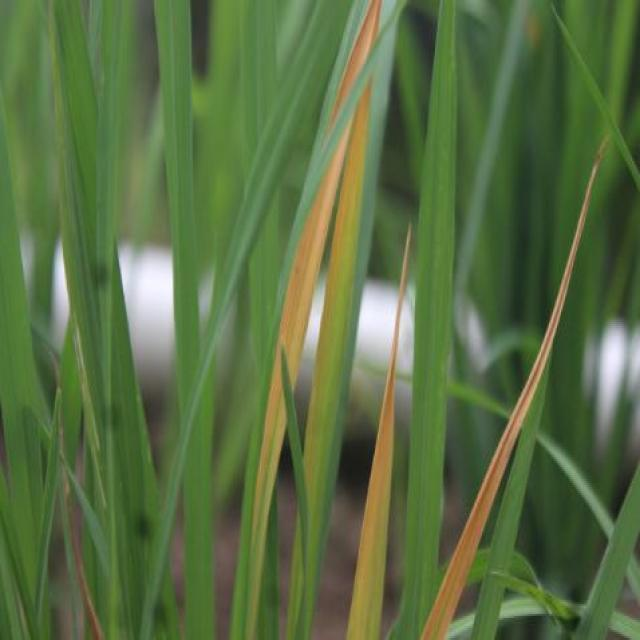Rice Tungro: (380, 204, 414, 473), (567, 130, 611, 278), (285, 181, 317, 357), (330, 148, 358, 325), (478, 434, 502, 521)
